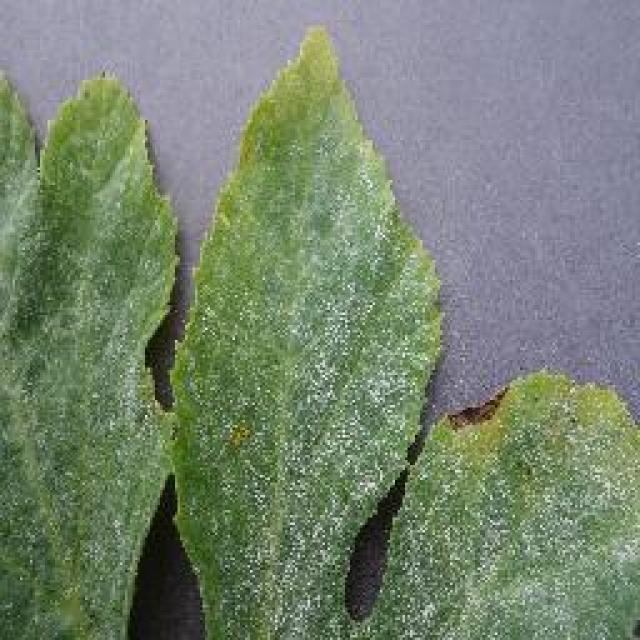Squ_Powdery_mildew: (34, 165, 354, 578), (414, 410, 626, 632)
